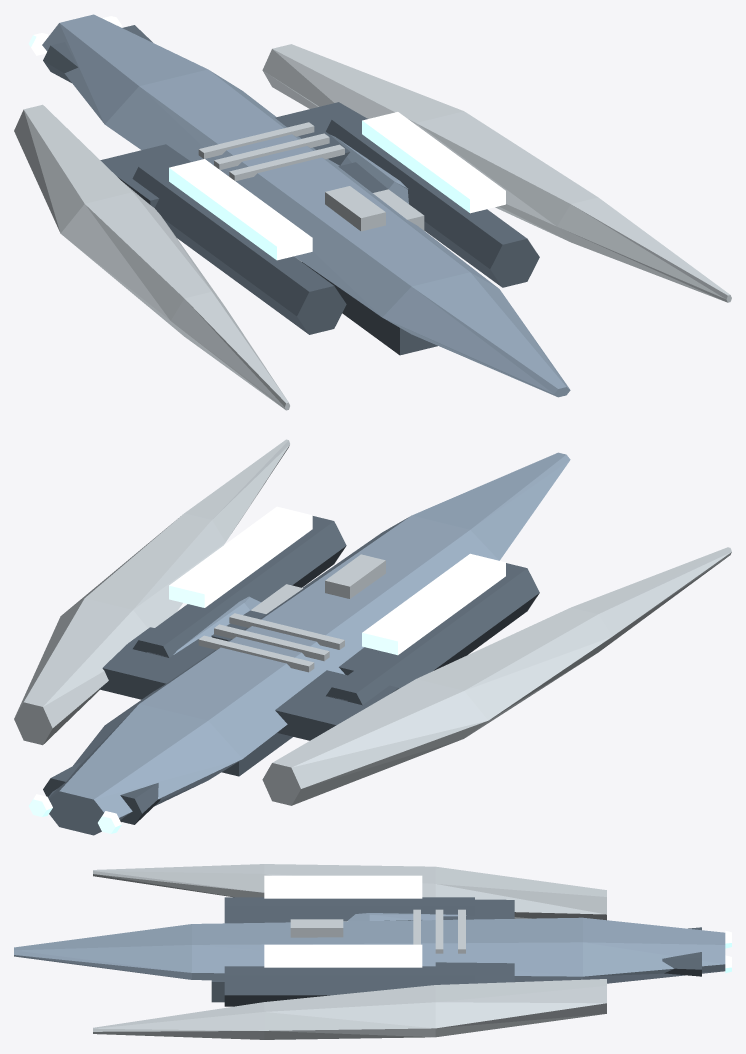
3 renders of one model, top to bottom at view 1: azimuth 30°, elevation 25°; view 2: azimuth 150°, elevation 25°; view 3: azimuth 270°, elevation 25°, orthographic. The views are drawn at different scales.
Bounding box in the file's own units: 6.03 × 1.34 × 11.45.
